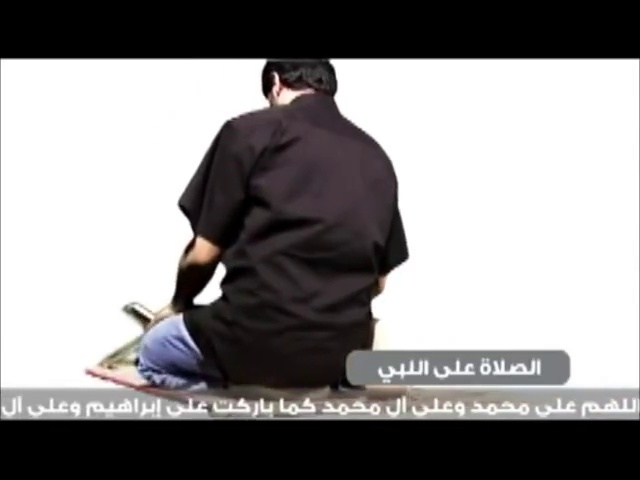sitting: (135, 59, 415, 402)
